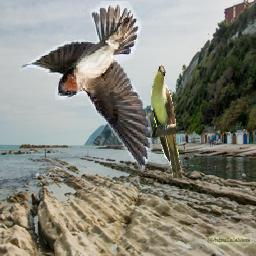Cuckoo: (152, 66, 183, 179)
Swallow: (19, 2, 153, 171)
